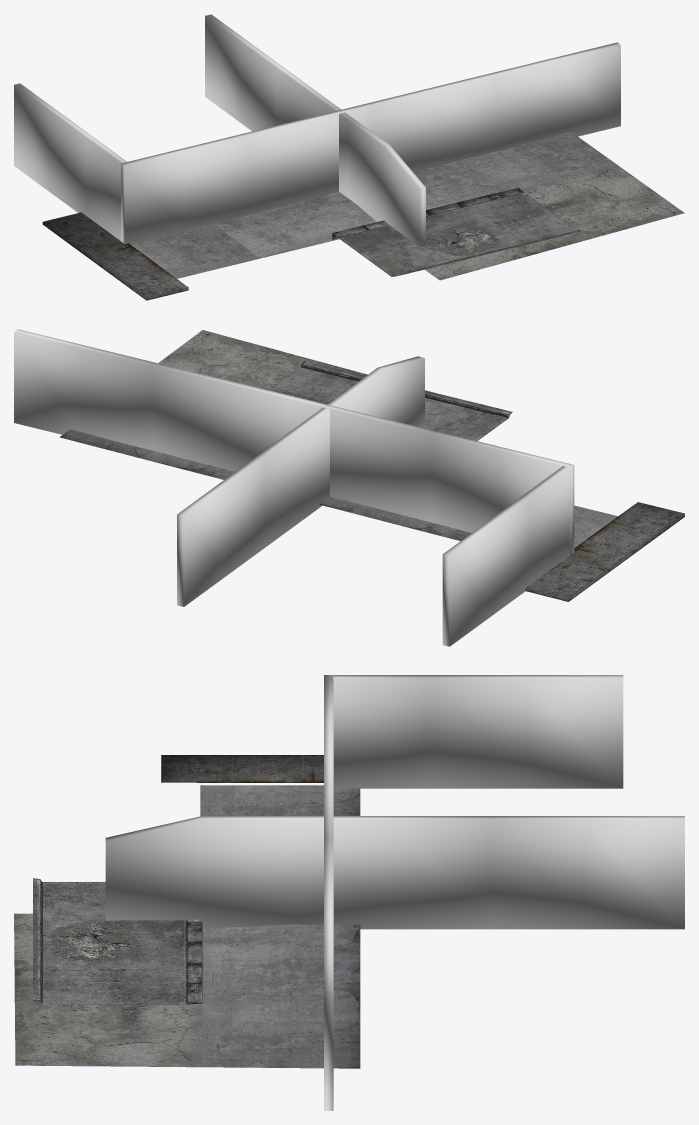
Rendered from GunoiArea_Specific2.fbx.
3 views of the same model, one above another, from view 1: azimuth 30°, elevation 25°; view 2: azimuth 150°, elevation 25°; view 3: azimuth 270°, elevation 25° (orthographic). The views are drawn at different scales.
Visible parts, largest first — view 1: Gard2_000, SpateleBlocului_001, Bordura2_001, Gard2_002; view 2: Gard2_000, SpateleBlocului_001, Gard2_002, Bordura2_001; view 3: Gard2_000, SpateleBlocului_001, Gard2_002, Bordura2_001.
Boxes of the visible parts, x1=… form: Gard2_000: x1=121, y1=14, x2=620, y2=247; SpateleBlocului_001: x1=42, y1=131, x2=684, y2=300; Bordura2_001: x1=332, y1=187, x2=580, y2=276; Gard2_002: x1=14, y1=83, x2=126, y2=240; Gard2_000: x1=14, y1=329, x2=574, y2=606; SpateleBlocului_001: x1=59, y1=330, x2=684, y2=601; Gard2_002: x1=442, y1=466, x2=569, y2=646; Bordura2_001: x1=269, y1=361, x2=512, y2=440; Gard2_000: x1=105, y1=675, x2=684, y2=1110; SpateleBlocului_001: x1=14, y1=755, x2=360, y2=1068; Gard2_002: x1=333, y1=675, x2=623, y2=788; Bordura2_001: x1=33, y1=878, x2=202, y2=1004.
Size of the model in its own units: 17.24 by 2.5 by 13.9.
